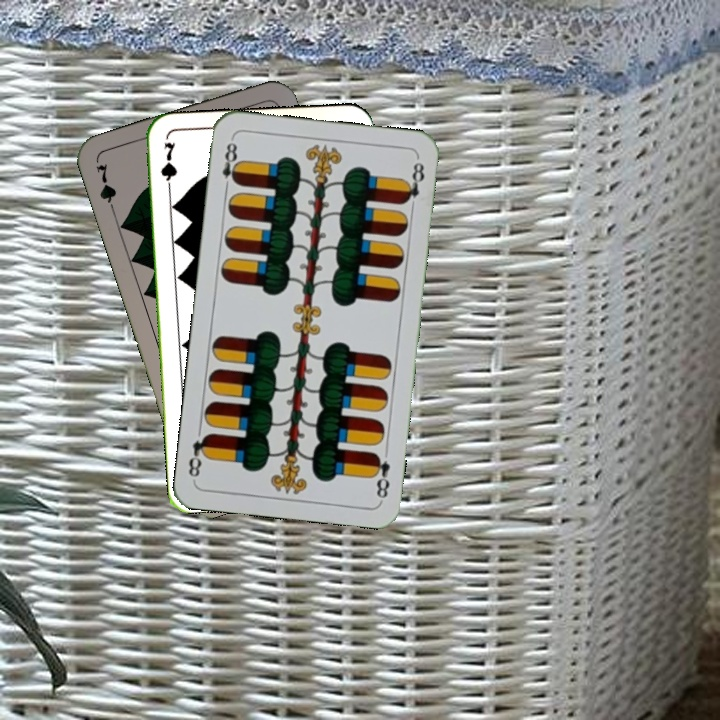E8: (218, 135, 243, 194), (368, 448, 393, 501)
G7: (91, 159, 119, 218), (156, 138, 180, 197)
